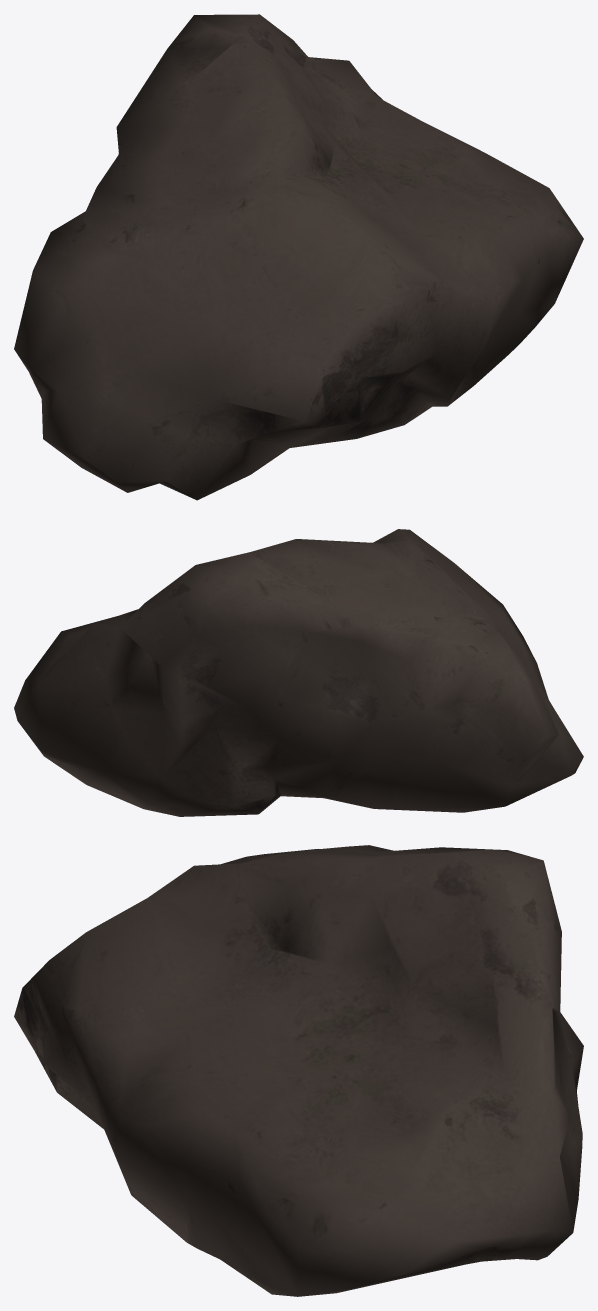
File: falling_rock_b.glb
3 views of the same model, one above another, from view 1: azimuth 30°, elevation 25°; view 2: azimuth 150°, elevation 25°; view 3: azimuth 270°, elevation 25° (orthographic). The views are drawn at different scales.
Parts seen in each view (by area): view 1: falling_rock_b; view 2: falling_rock_b; view 3: falling_rock_b.
Boxes of the visible parts, x1,y1,x2,y2 form: falling_rock_b: (14, 14, 583, 500); falling_rock_b: (14, 529, 583, 816); falling_rock_b: (14, 845, 583, 1296).
Size of the model in its own units: 1.01 by 0.5194 by 0.7752.
Materials: 1 (1 with a texture image).
